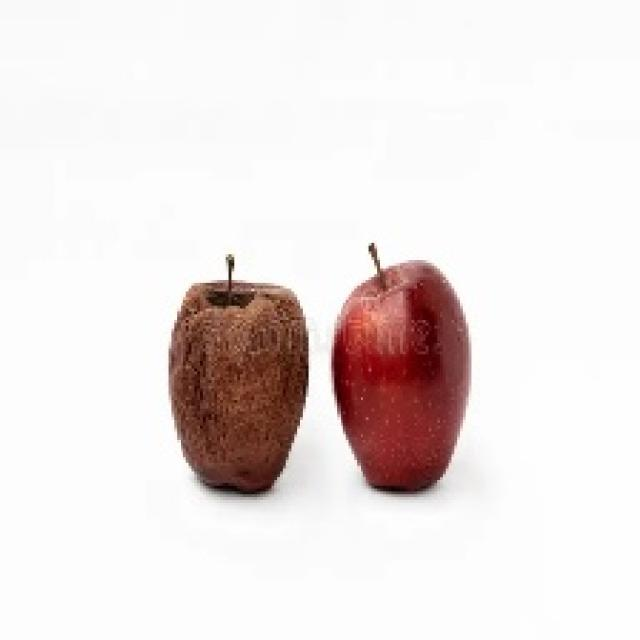rotten_apple: (171, 283, 306, 492)
